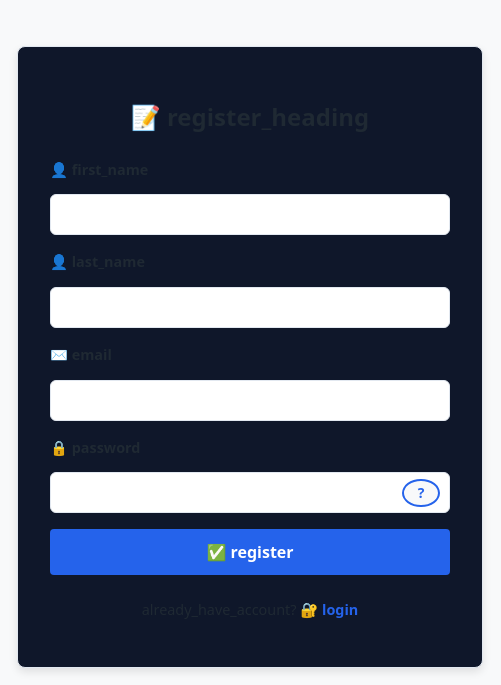
RegisterPage Component › Başarılı kayıt sonrası başarı mesajı göstermeli ve yönlendirmeli
Type "Tuna" into the field labelled "👤 first_name" at (250, 215), box [50,194,450,235]
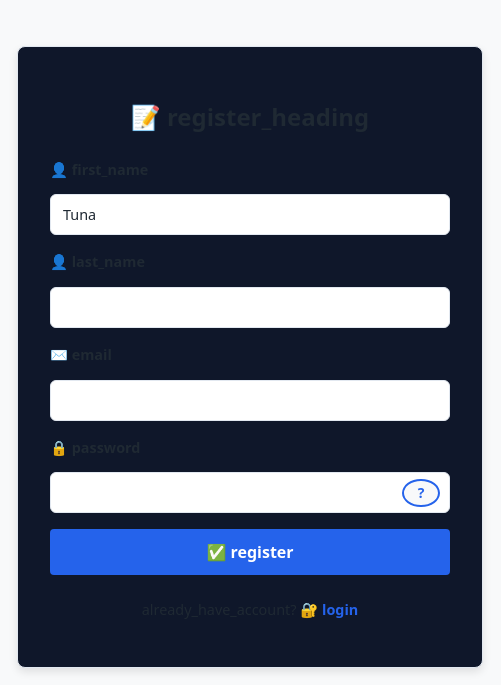
Type "Test" into the field labelled "👤 last_name" at (250, 308), box [50,287,450,328]
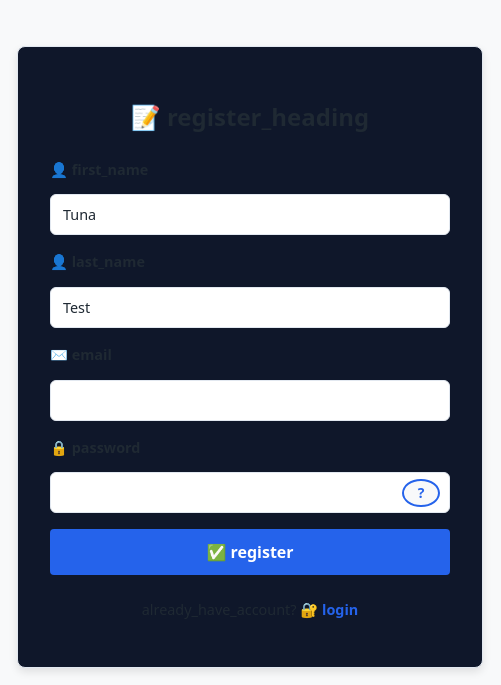
Type "tuna@test.com" into the field labelled "✉️ email" at (250, 400), box [50,380,450,421]
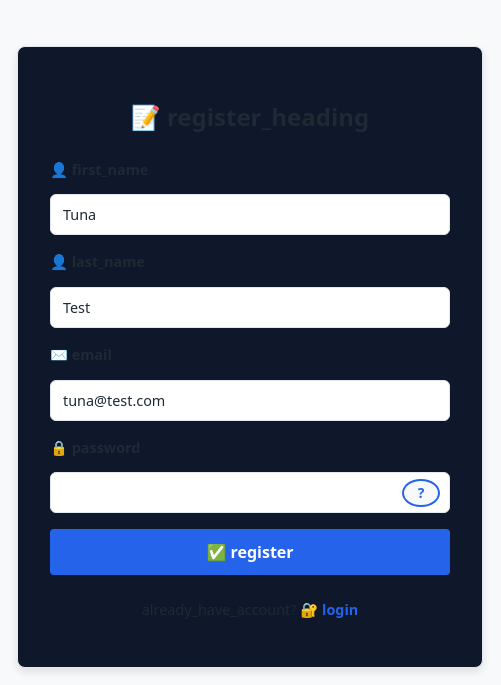
Type "password123" into the password field labelled "🔒 password" at (250, 493), box [50,472,450,513]
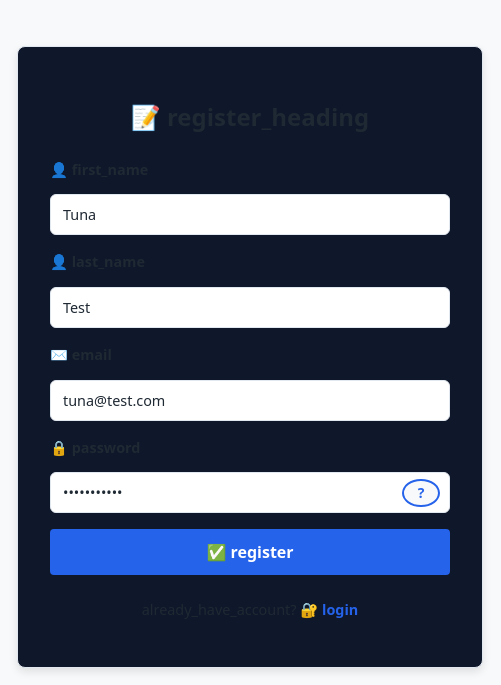
Click the button "✅ register" at (250, 552), box [50,529,450,575]
Wait 1200 ms
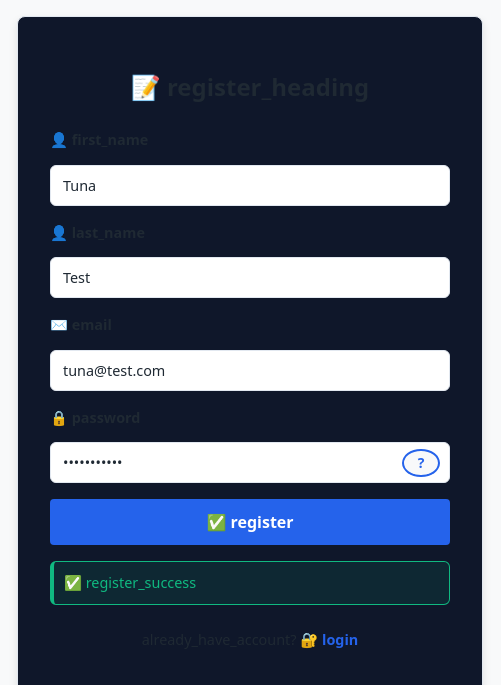
Result: the text "✅ register_success" is shown at [50,561,450,605]
